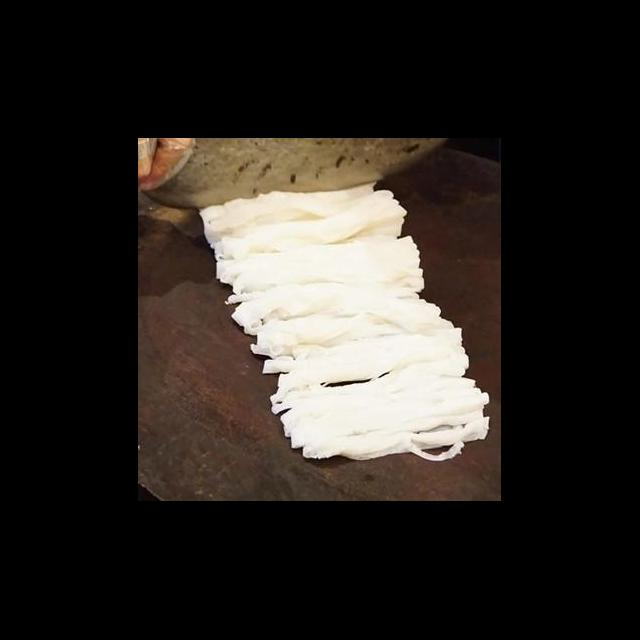banh pho: (190, 174, 497, 466)
